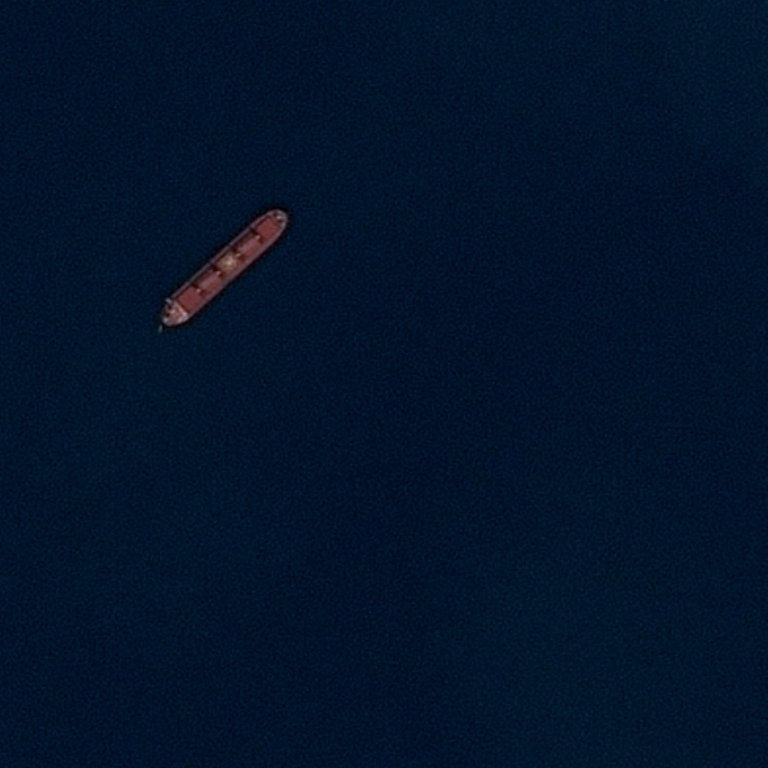ship: (160, 210, 287, 325)
